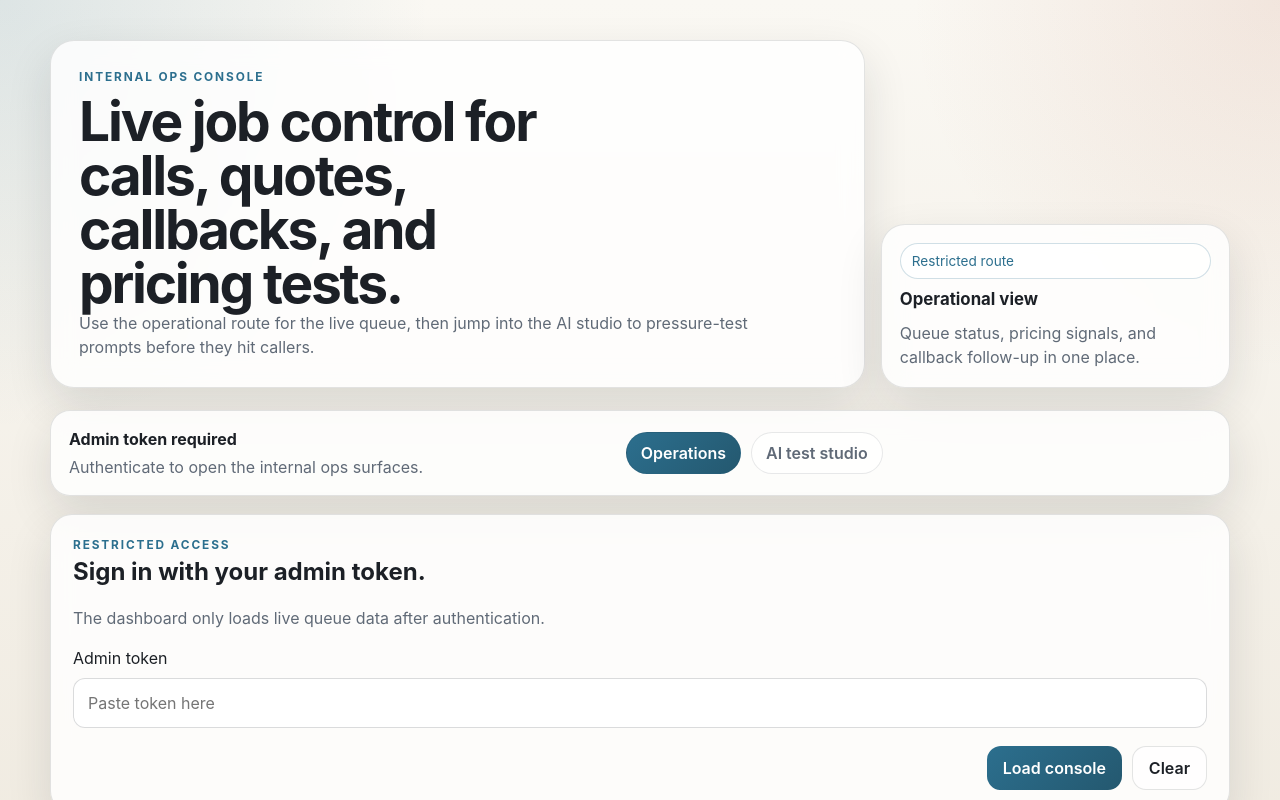
Test: ops console › sends the admin token and surfaces rejected auth
The width and height of the screenshot is (1280, 800).
Step 1. Type "bad-token" into the password field labelled "Admin token" → (640, 703), box 73,678 -> 1207,728
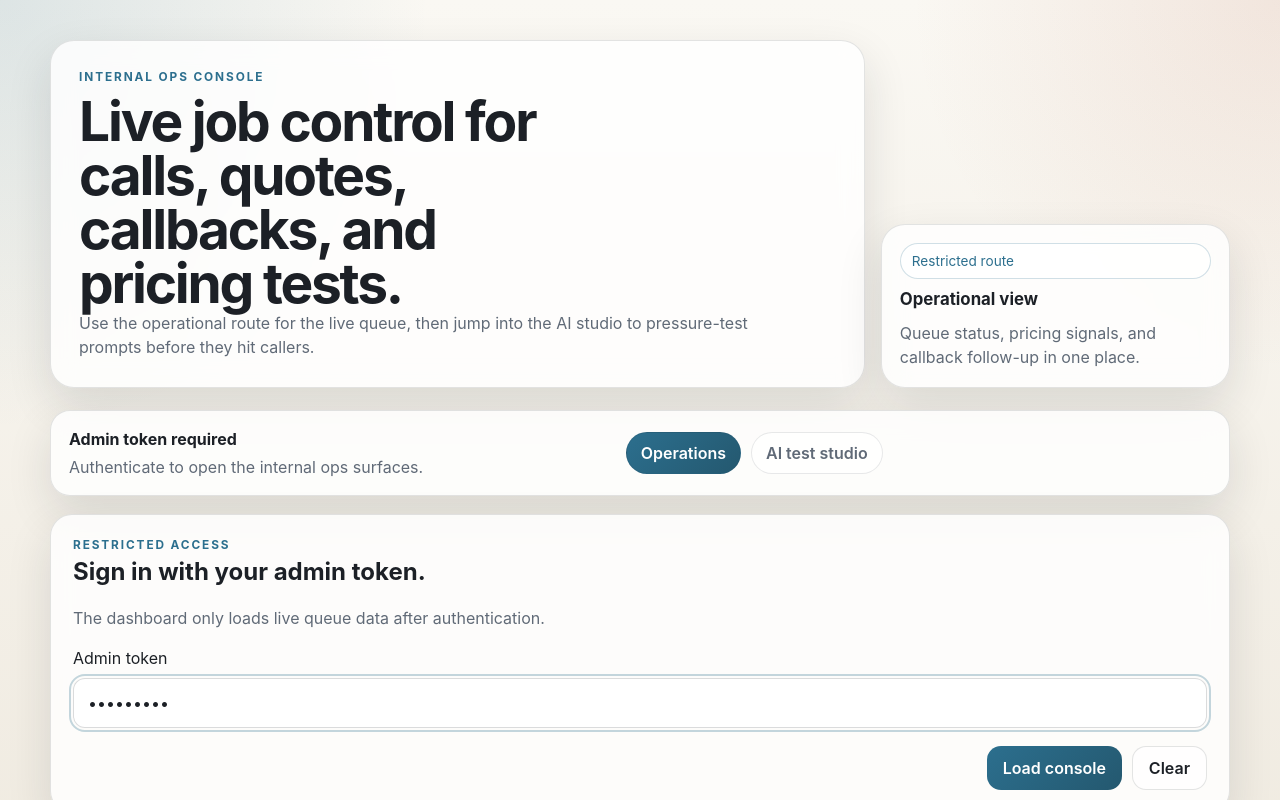
Step 2. Click the button "Load console" → click(1054, 768), box 987,746 -> 1122,790
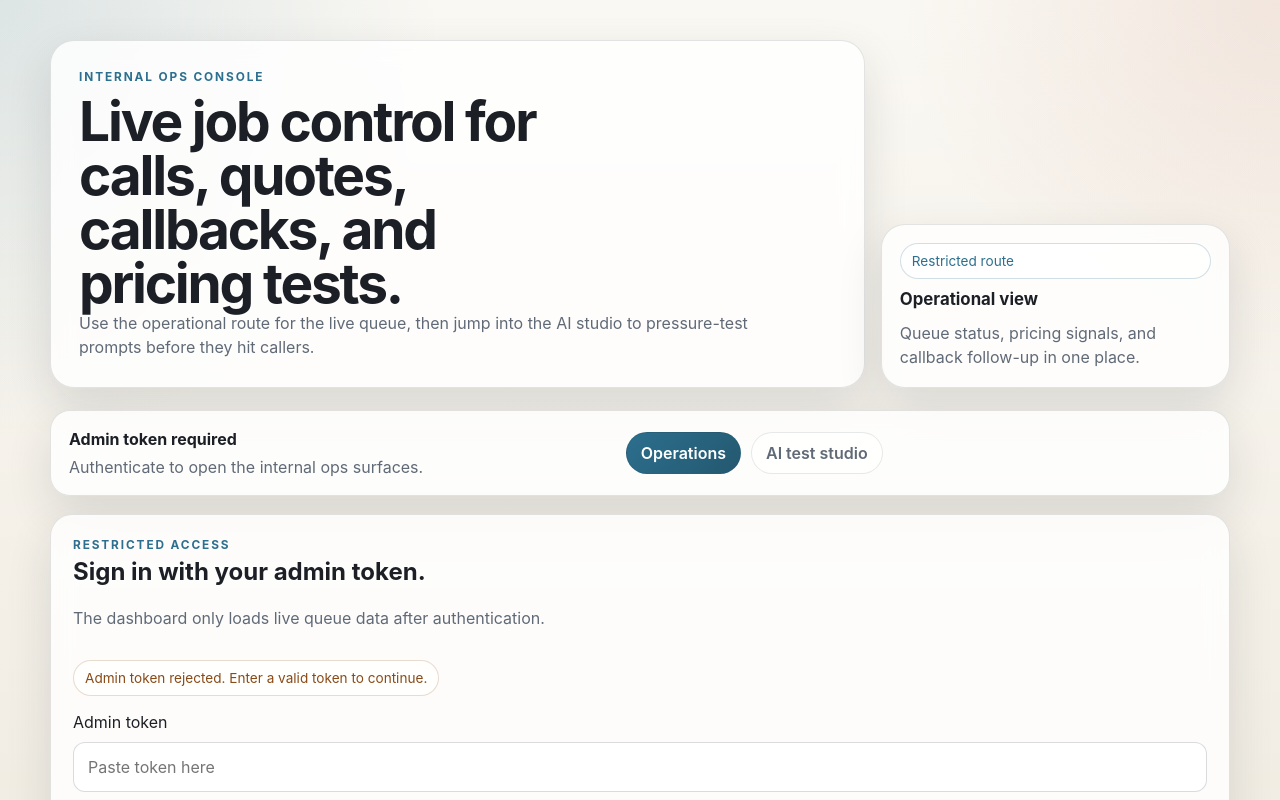
Expected: the text "Admin token rejected. Enter a valid token to continue." is shown, 73,660 -> 439,696
